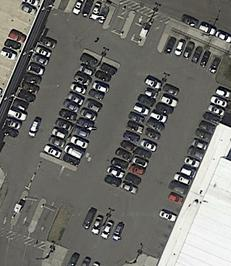parkingspot: (140, 81, 230, 261), (100, 72, 166, 192), (118, 82, 182, 198), (59, 59, 120, 170), (40, 52, 102, 161), (0, 33, 59, 141), (0, 0, 44, 105), (160, 32, 225, 79), (81, 205, 128, 244), (67, 0, 111, 30)
